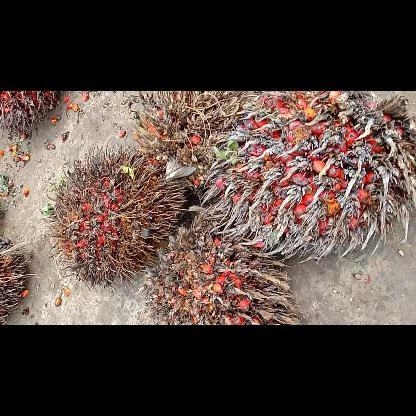Terlalu masak: (209, 90, 414, 266), (47, 143, 193, 287), (138, 216, 308, 324), (128, 90, 260, 196)
